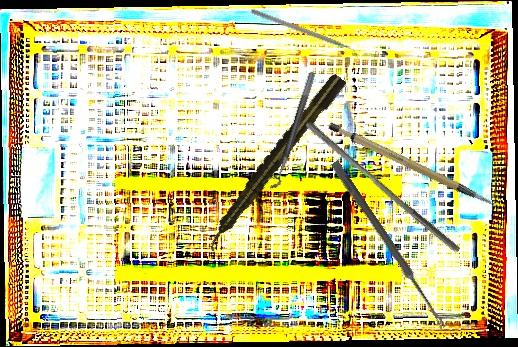Chopper: (247, 8, 363, 61)
Fixation Ring: (261, 68, 317, 192)
Handpiece: (199, 71, 349, 254)
Pusher: (300, 119, 466, 254)
Scalpel Handle: (325, 101, 496, 231)
Surgical Spoon: (329, 160, 449, 330)
